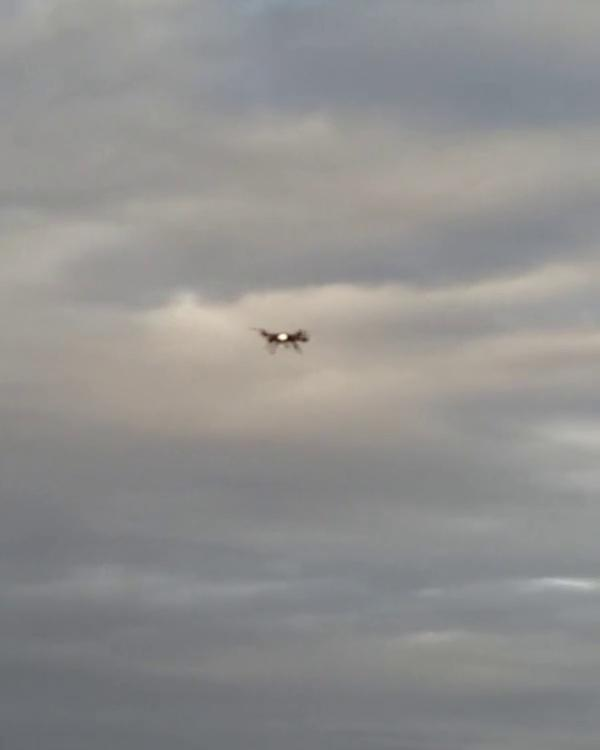drone: (258, 325, 315, 359)
